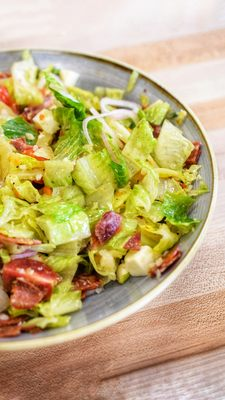curry: (1, 116, 38, 145)
sushi: (0, 57, 217, 369)
